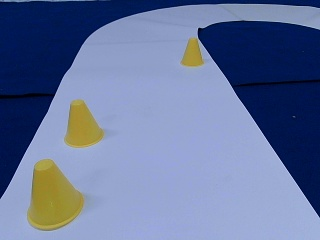cone: (27, 160, 84, 229), (63, 100, 104, 146), (180, 38, 203, 65)
